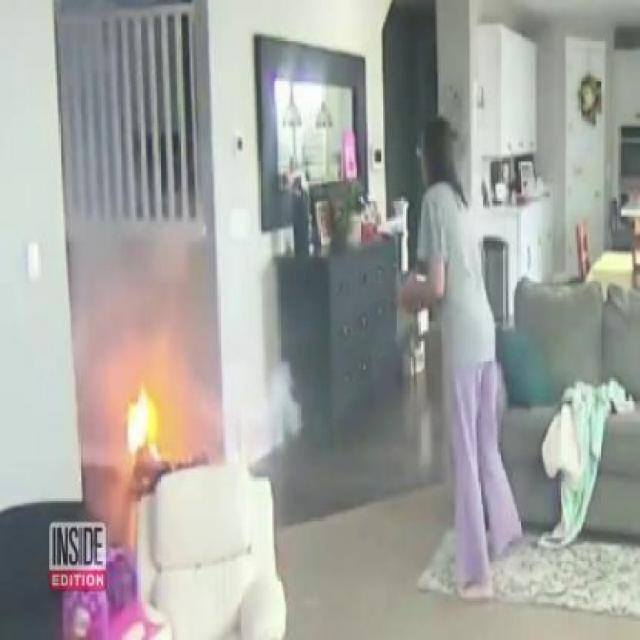fire: (125, 384, 170, 478)
smoke: (86, 212, 194, 357), (213, 366, 310, 462)
